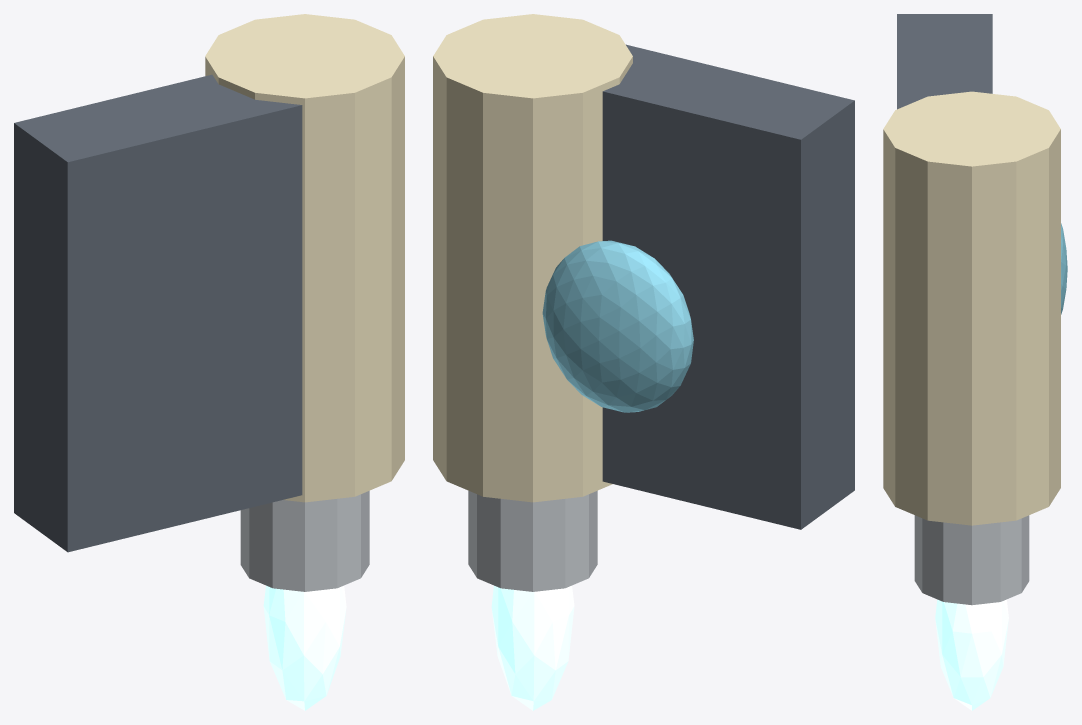
File: jet_4.glb
3 views of the same model, side by side, from view 1: azimuth 30°, elevation 25°; view 2: azimuth 150°, elevation 25°; view 3: azimuth 270°, elevation 25° (orthographic). The views are drawn at different scales.
Parts seen in each view (by area): view 1: placa, deposito, tobera, llama; view 2: placa, deposito, nucleo, tobera, llama; view 3: deposito, tobera, placa, llama, nucleo.
Part boxes in pixels (bbox=[...]): placa: bbox=[14, 74, 302, 552]; deposito: bbox=[205, 14, 404, 502]; tobera: bbox=[240, 491, 369, 591]; llama: bbox=[263, 585, 346, 710]; placa: bbox=[602, 44, 854, 529]; deposito: bbox=[433, 14, 632, 502]; nucleo: bbox=[542, 240, 693, 412]; tobera: bbox=[468, 490, 597, 591]; llama: bbox=[491, 585, 574, 710]; deposito: bbox=[883, 91, 1060, 525]; tobera: bbox=[914, 515, 1029, 605]; placa: bbox=[897, 14, 992, 109]; llama: bbox=[935, 599, 1008, 710]; nucleo: bbox=[1061, 223, 1067, 314].
Size of the model in its own units: 0.5266 by 0.9 by 0.2585.
